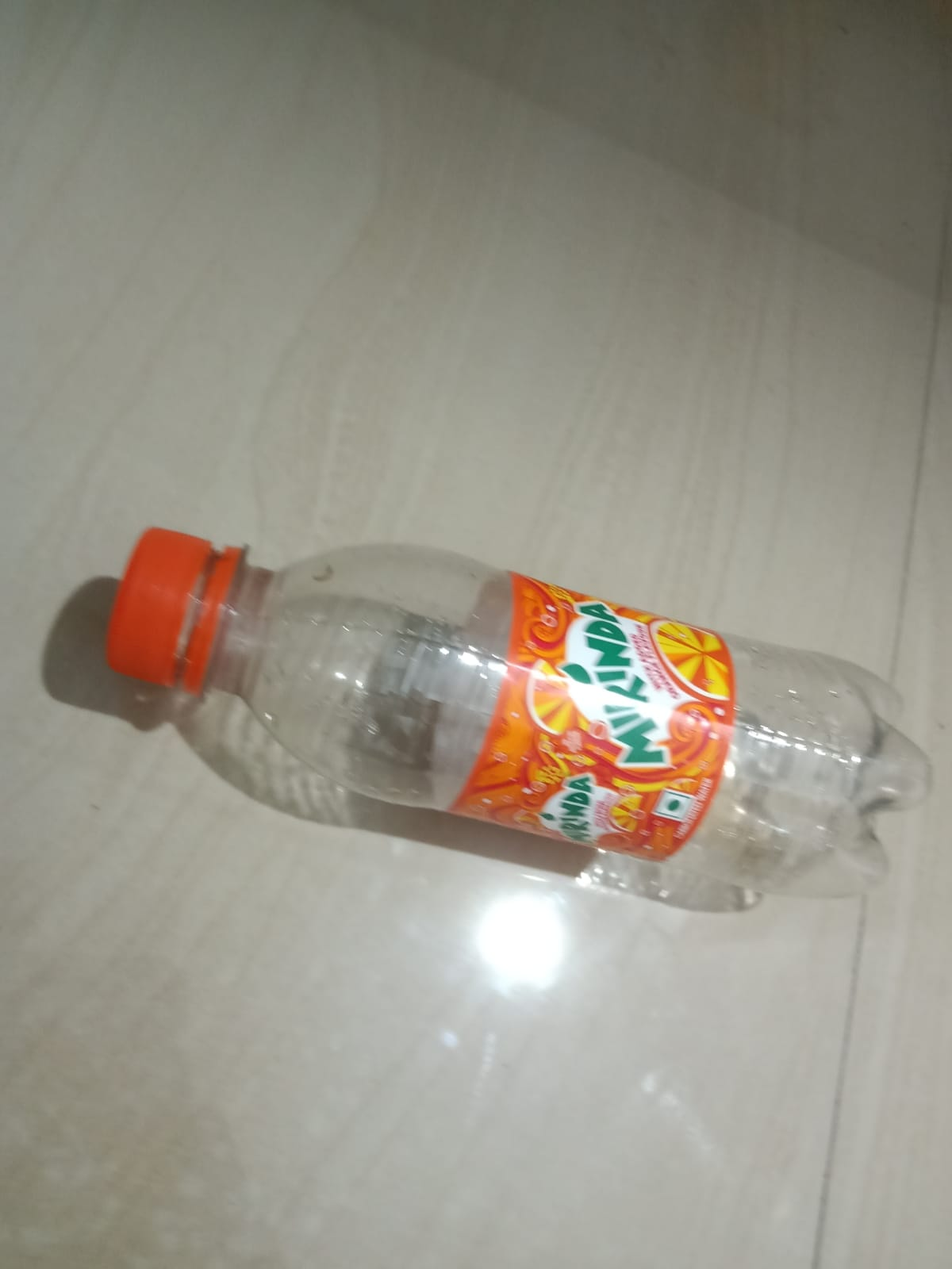plastic: (45, 424, 952, 994)
